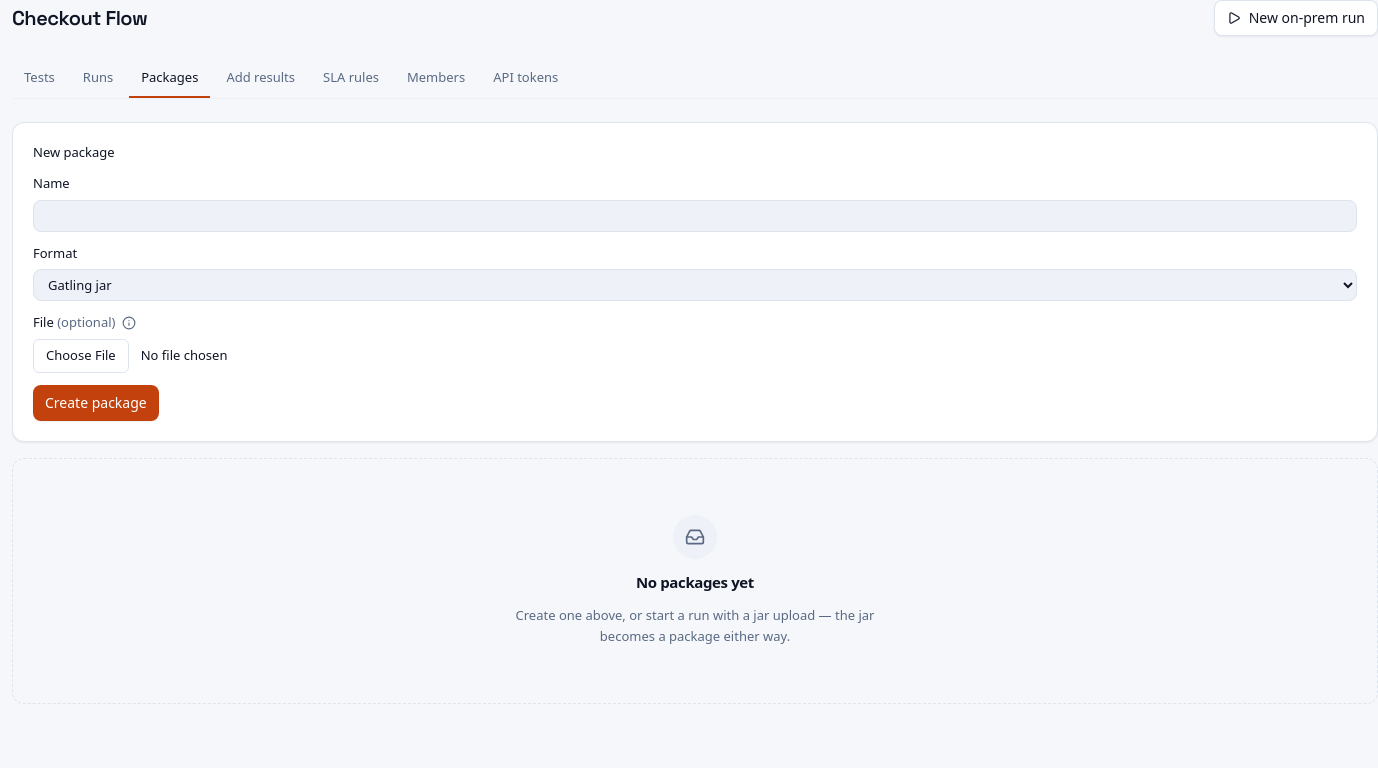
Test: Packages — creating one › creates an empty package when no file was chosen, and says the server’s own words when it refuses
The width and height of the screenshot is (1378, 768).
Expected: the text "No packages yet" is shown, [636,570,754,593]
In the field labelled "Name": point(695, 216) [33,200,1357,232], type "Soak"
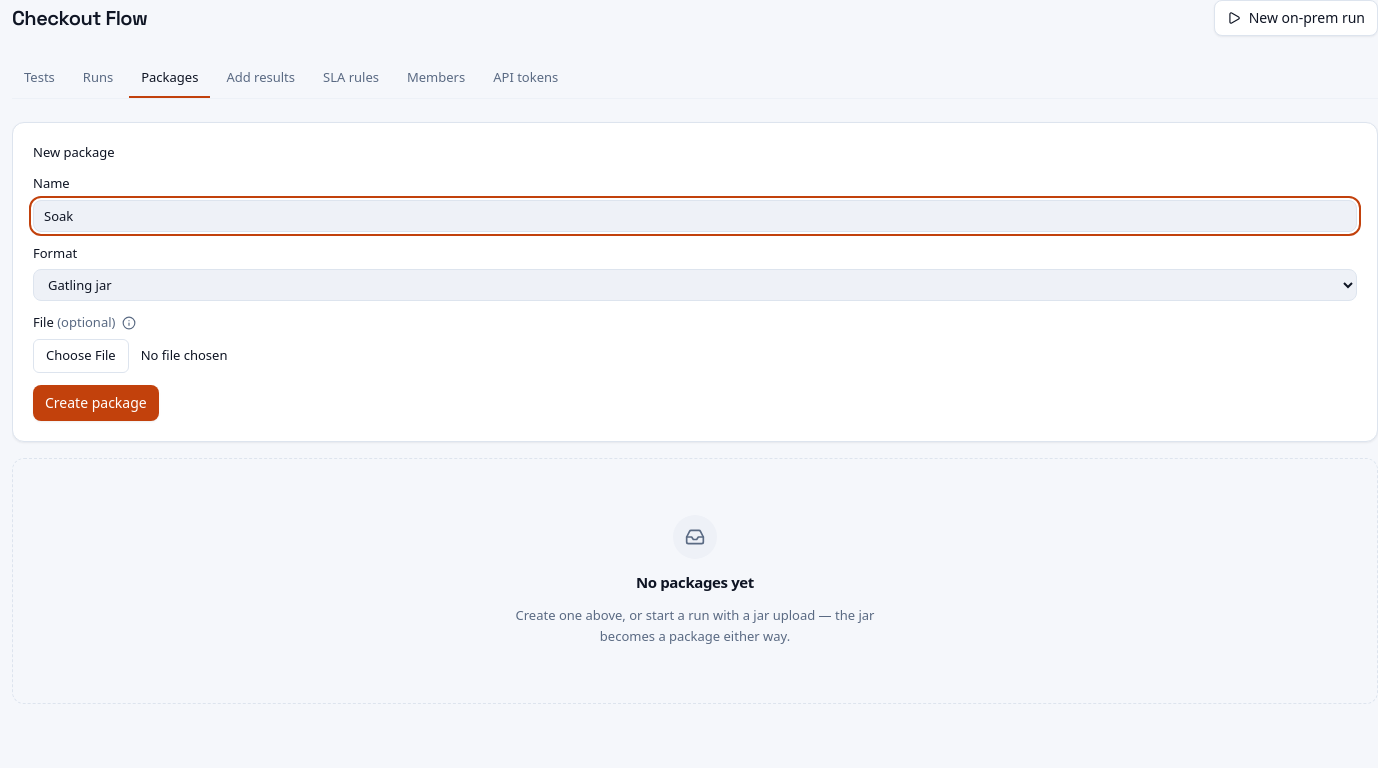
Click the button "Create package": point(96, 402) [33,384,159,420]
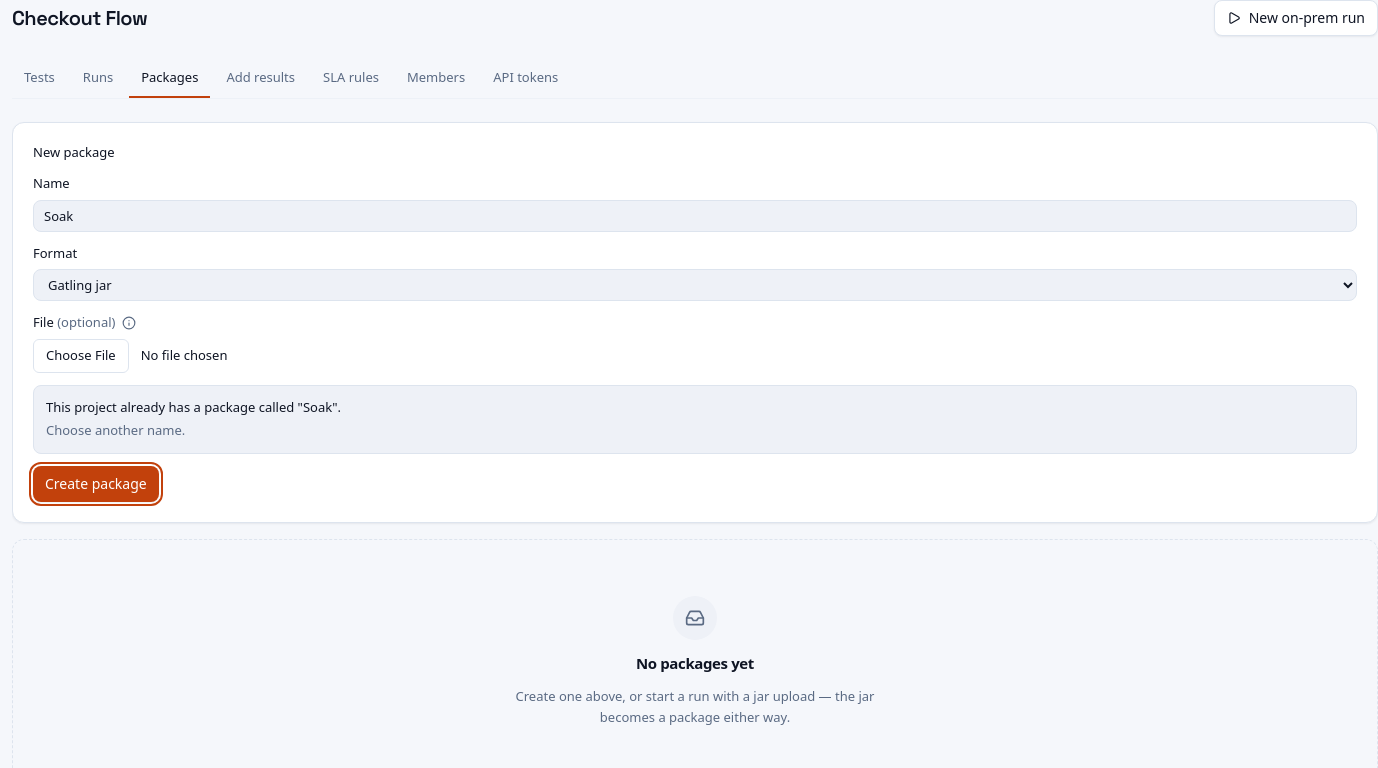
Now the message shows "Soak", box [46,398,341,416]
